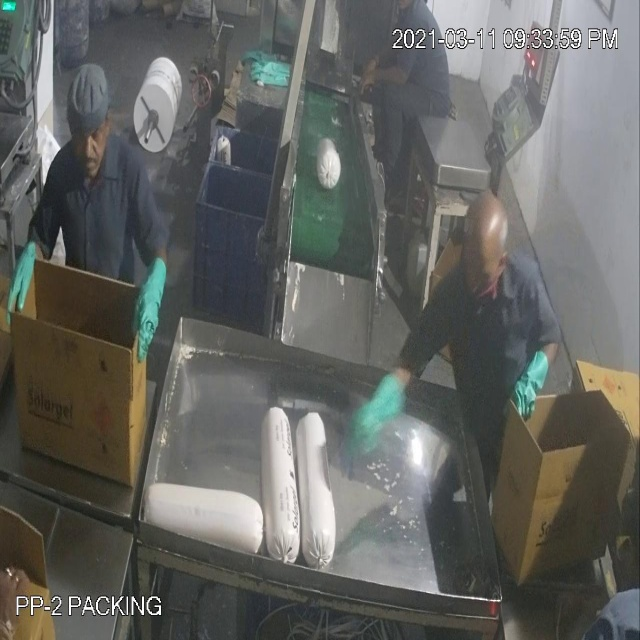Sin_guantes: (352, 60, 416, 104)
